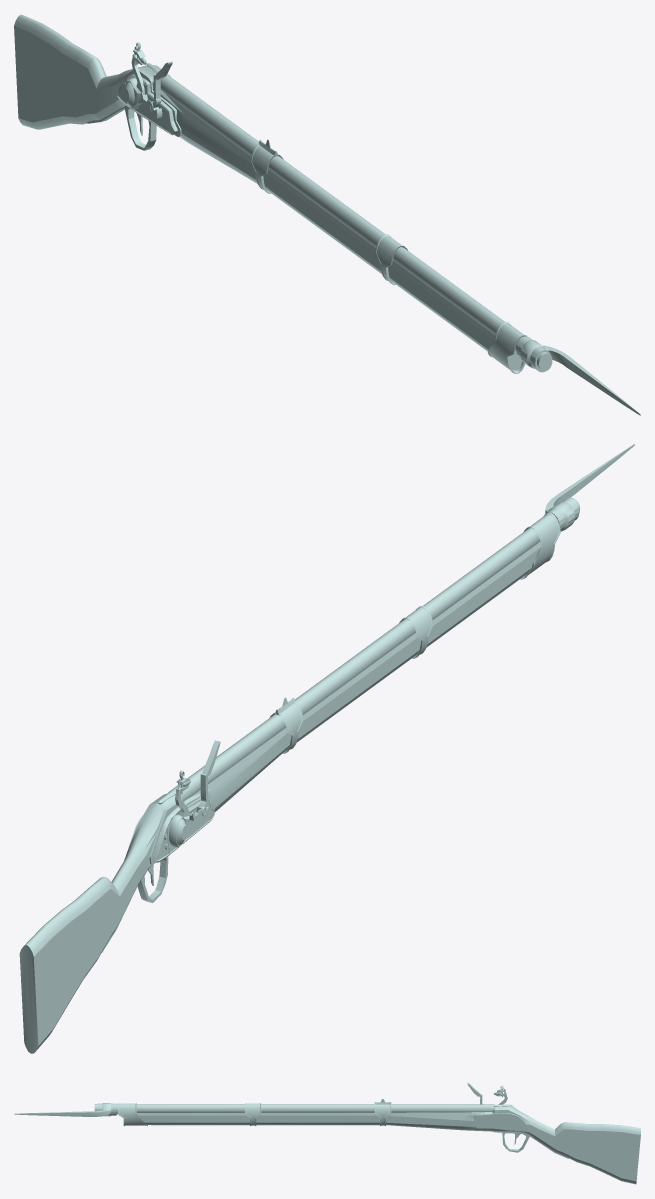
File: musketBayonet.obj
3 renders of one model, top to bottom at view 1: azimuth 30°, elevation 25°; view 2: azimuth 150°, elevation 25°; view 3: azimuth 270°, elevation 25°, orthographic. The views are drawn at different scales.
Parts seen in each view (by area): view 1: musketWithBayonet.002; view 2: musketWithBayonet.002; view 3: musketWithBayonet.002.
Boxes of the visible parts, x1,y1,x2,y2 form: musketWithBayonet.002: (14,14,640,415); musketWithBayonet.002: (19,444,634,1053); musketWithBayonet.002: (14,1082,640,1184).
Size of the model in its own units: 0.128 by 0.5256 by 3.08.
1 material, 1 textured.
